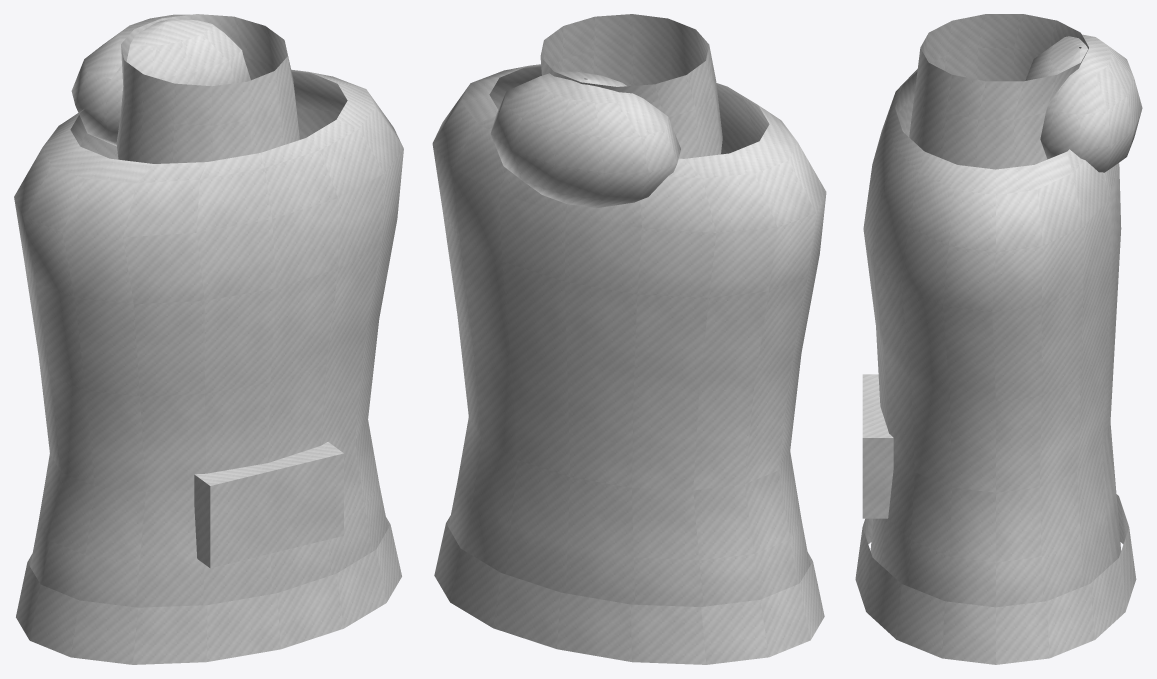
Rendered from shirt_hoodie_torso_m.glb.
3 renders of one model, left to right at view 1: azimuth 30°, elevation 25°; view 2: azimuth 150°, elevation 25°; view 3: azimuth 270°, elevation 25°, orthographic. The views are drawn at different scales.
Visible parts, largest first — view 1: shirt_hoodie_torso_m; view 2: shirt_hoodie_torso_m; view 3: shirt_hoodie_torso_m.
Boxes of the visible parts, box(x1,y1,x2,y2) form: shirt_hoodie_torso_m: box(14, 14, 403, 664); shirt_hoodie_torso_m: box(432, 14, 826, 664); shirt_hoodie_torso_m: box(855, 14, 1142, 664).
Bounding box in the file's own units: 0.47 × 0.66 × 0.323.
Materials: 1 (1 with a texture image).
